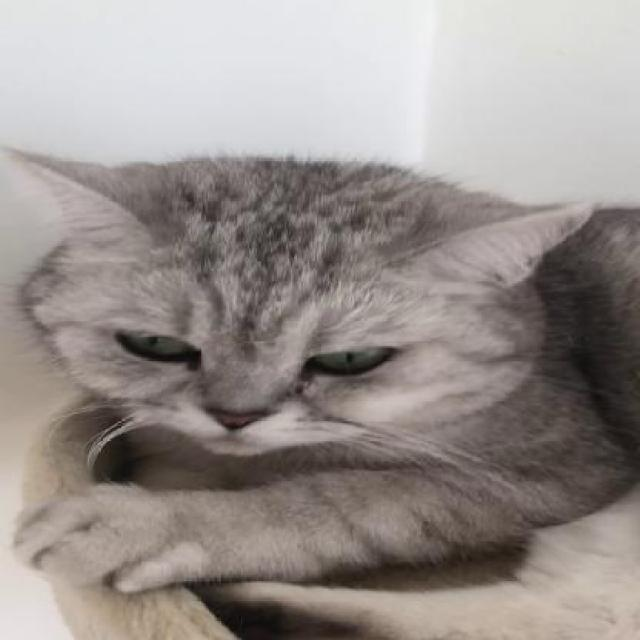cat-face: (9, 148, 597, 454)
